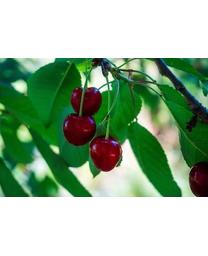cherry: (89, 135, 122, 172), (63, 113, 97, 147), (71, 86, 102, 118)
